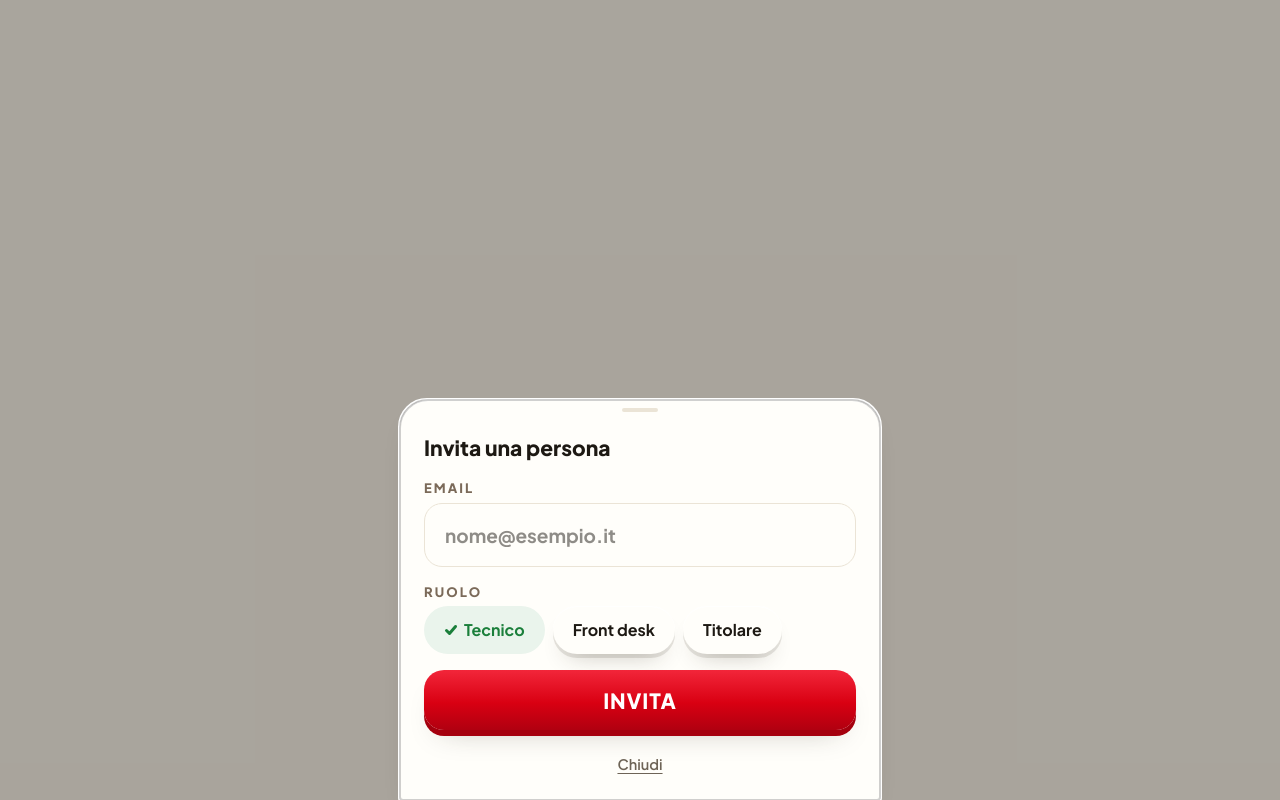
it: InvitoPersonaSheet (Task 13) › errore server → messaggio role="alert" visibile, nessun refresh spurio
The width and height of the screenshot is (1280, 800).
Type "gia@esempio.it" into the field labelled "Email" at coordinates (640, 535), box x1=424 y1=503 x2=856 y2=567
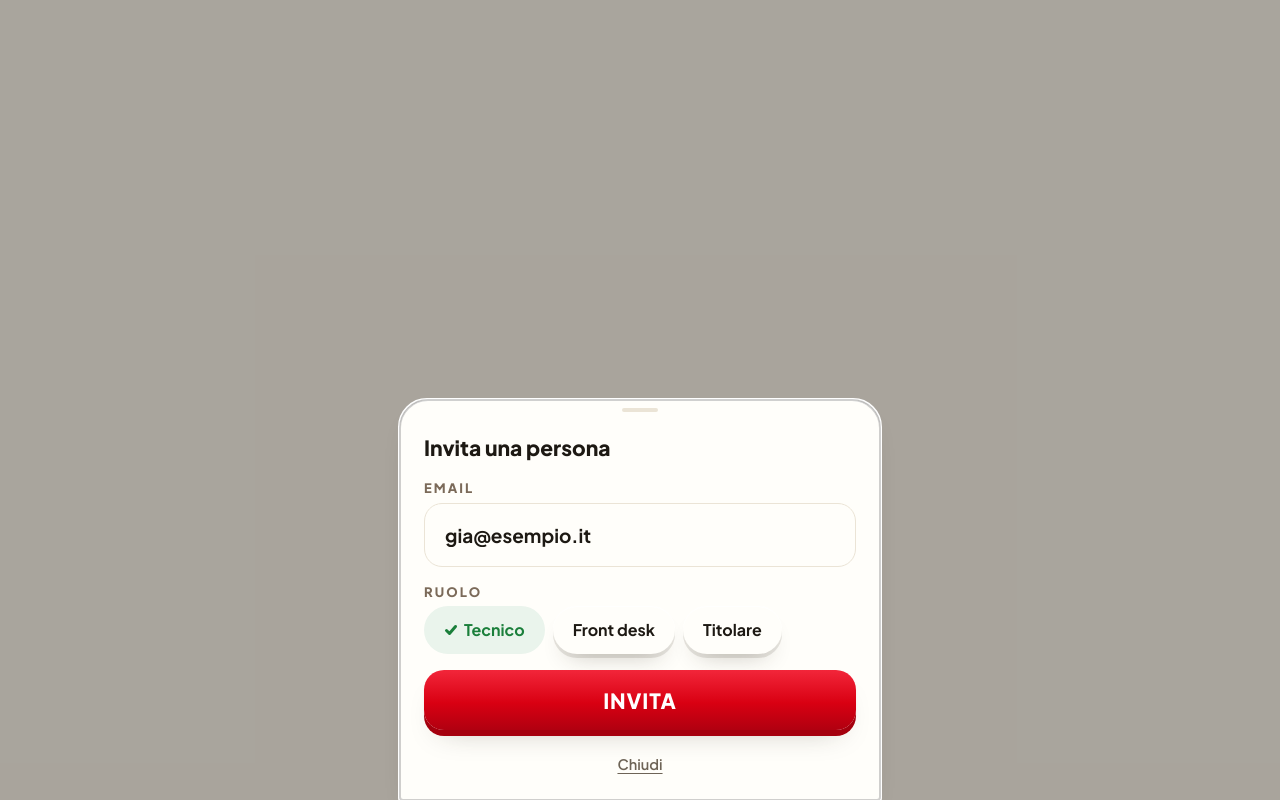
Click the button "Invita" at coordinates (640, 700), box x1=424 y1=670 x2=856 y2=730
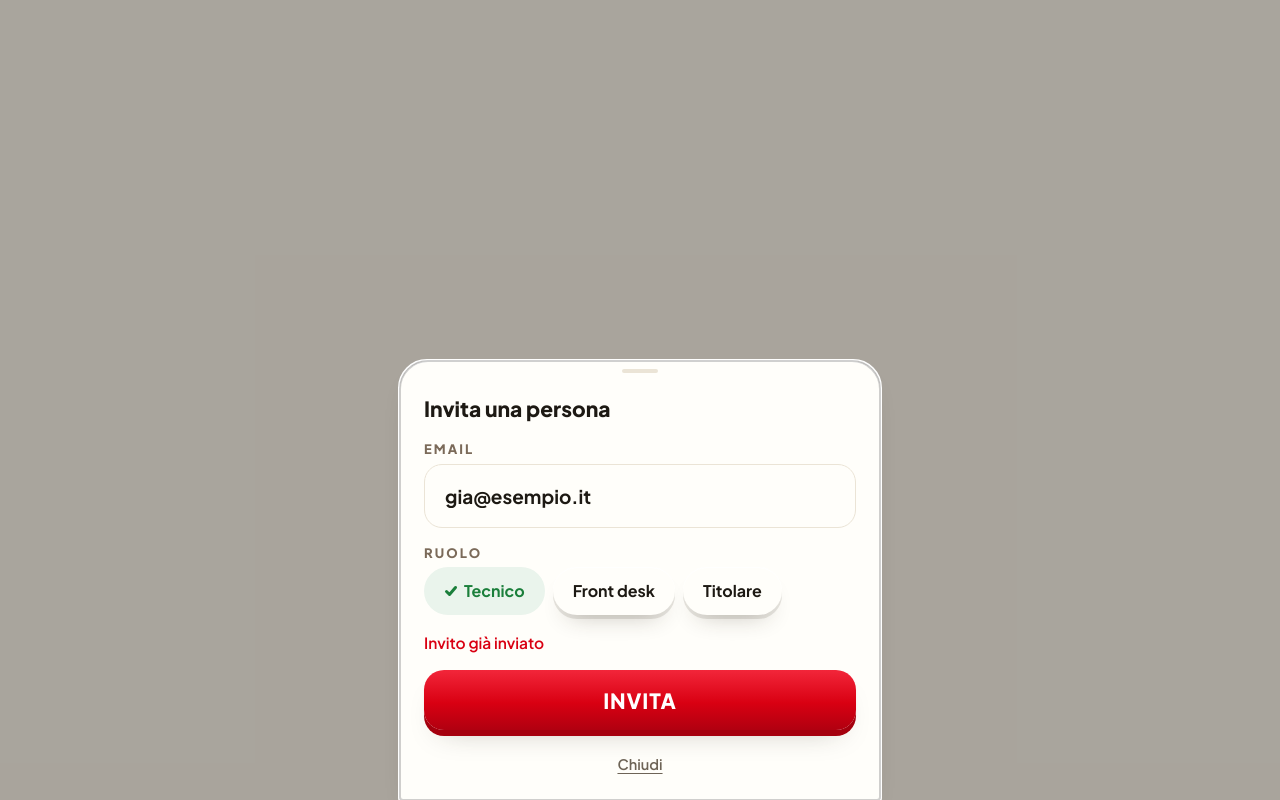
Expected: the message reads "Invito già inviato", x1=424 y1=633 x2=544 y2=652
